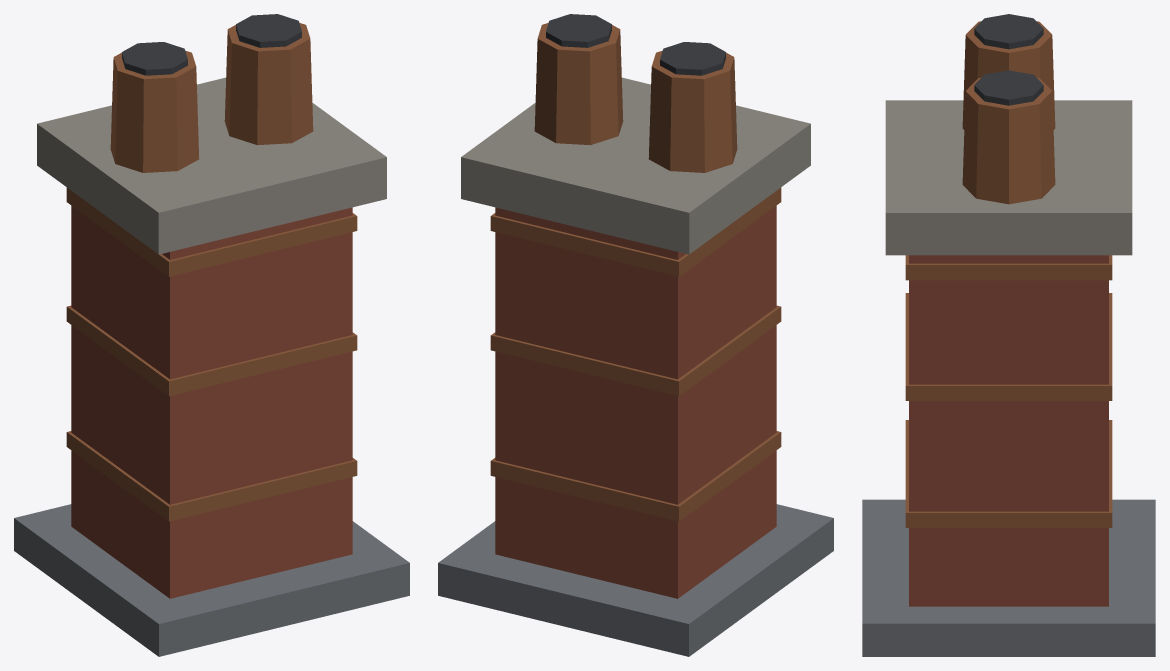
File: building-chimney.glb
3 views of the same model, side by side, from view 1: azimuth 30°, elevation 25°; view 2: azimuth 150°, elevation 25°; view 3: azimuth 270°, elevation 25° (orthographic).
Parts seen in each view (by area): view 1: brick-stack, stone-cap, flashing, clay-pot.001, clay-pot, masonry-course, masonry-course.001, masonry-course.002, dark-flue.001, dark-flue; view 2: brick-stack, stone-cap, flashing, clay-pot.001, clay-pot, masonry-course, masonry-course.001, masonry-course.002, dark-flue.001, dark-flue; view 3: brick-stack, stone-cap, flashing, clay-pot.001, masonry-course, masonry-course.001, masonry-course.002, clay-pot, dark-flue.001, dark-flue.
Boxes of the visible parts, <box> form: brick-stack: <box>71,206,352,598</box>; stone-cap: <box>37,77,386,254</box>; flashing: <box>14,504,409,656</box>; clay-pot.001: <box>224,23,313,145</box>; clay-pot: <box>110,50,199,172</box>; masonry-course: <box>66,431,357,521</box>; masonry-course.001: <box>66,305,357,396</box>; masonry-course.002: <box>66,187,357,276</box>; dark-flue.001: <box>236,14,301,47</box>; dark-flue: <box>122,42,187,75</box>; brick-stack: <box>495,206,776,598</box>; stone-cap: <box>461,77,810,254</box>; flashing: <box>438,504,833,656</box>; clay-pot.001: <box>534,23,623,145</box>; clay-pot: <box>648,50,737,172</box>; masonry-course: <box>490,431,781,521</box>; masonry-course.001: <box>490,305,781,396</box>; masonry-course.002: <box>490,187,781,276</box>; dark-flue.001: <box>546,14,611,47</box>; dark-flue: <box>660,42,725,75</box>; brick-stack: <box>909,255,1108,606</box>; stone-cap: <box>885,100,1132,255</box>; flashing: <box>862,499,1155,656</box>; clay-pot.001: <box>962,77,1055,204</box>; masonry-course: <box>905,420,1112,527</box>; masonry-course.001: <box>905,293,1112,400</box>; masonry-course.002: <box>905,255,1112,280</box>; clay-pot: <box>962,21,1055,129</box>; dark-flue.001: <box>974,70,1043,105</box>; dark-flue: <box>974,14,1043,49</box>.
Bounding box in the file's own units: 0.44 × 0.89 × 0.44.
